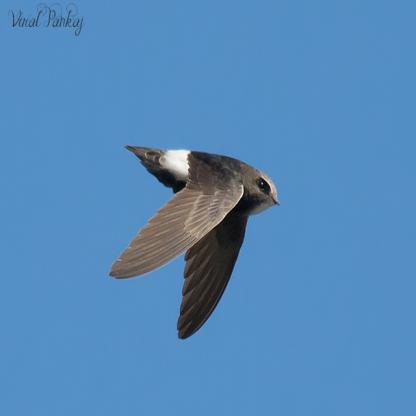Burung: (108, 144, 279, 339)
